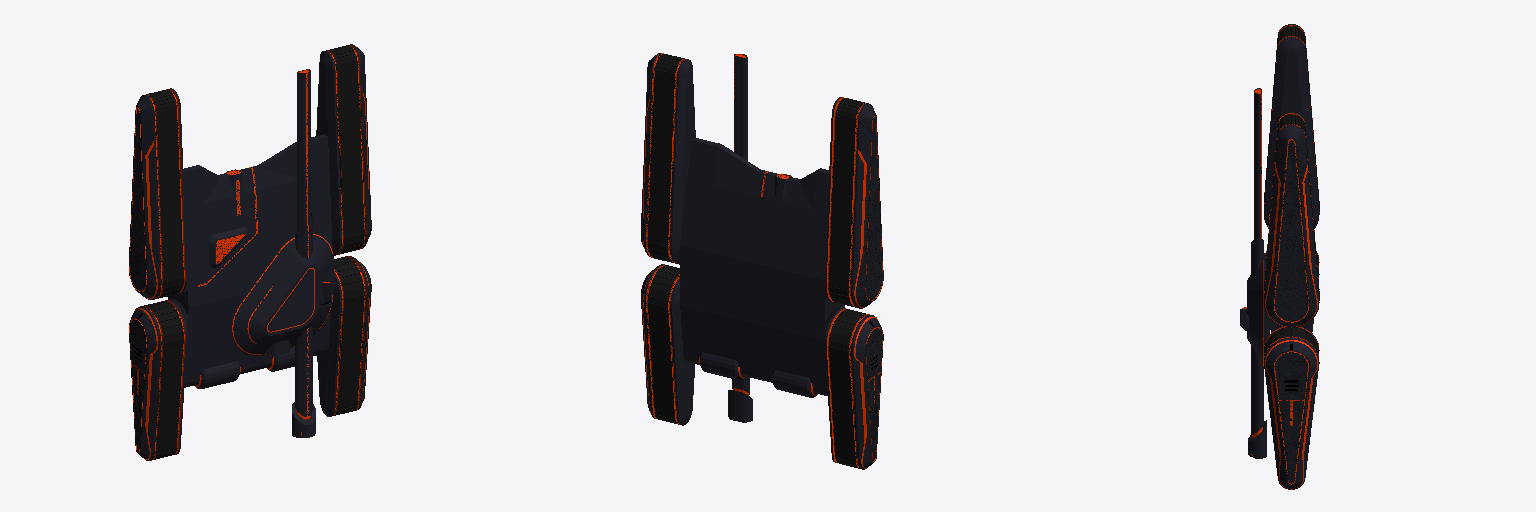
Rendered from tron-tank.obj.
The picture shows the model from 3 angles: view 1: azimuth 30°, elevation 25°; view 2: azimuth 150°, elevation 25°; view 3: azimuth 270°, elevation 25°; orthographic projection.
Size of the model in its own units: 4.64 by 7.24 by 1.42.